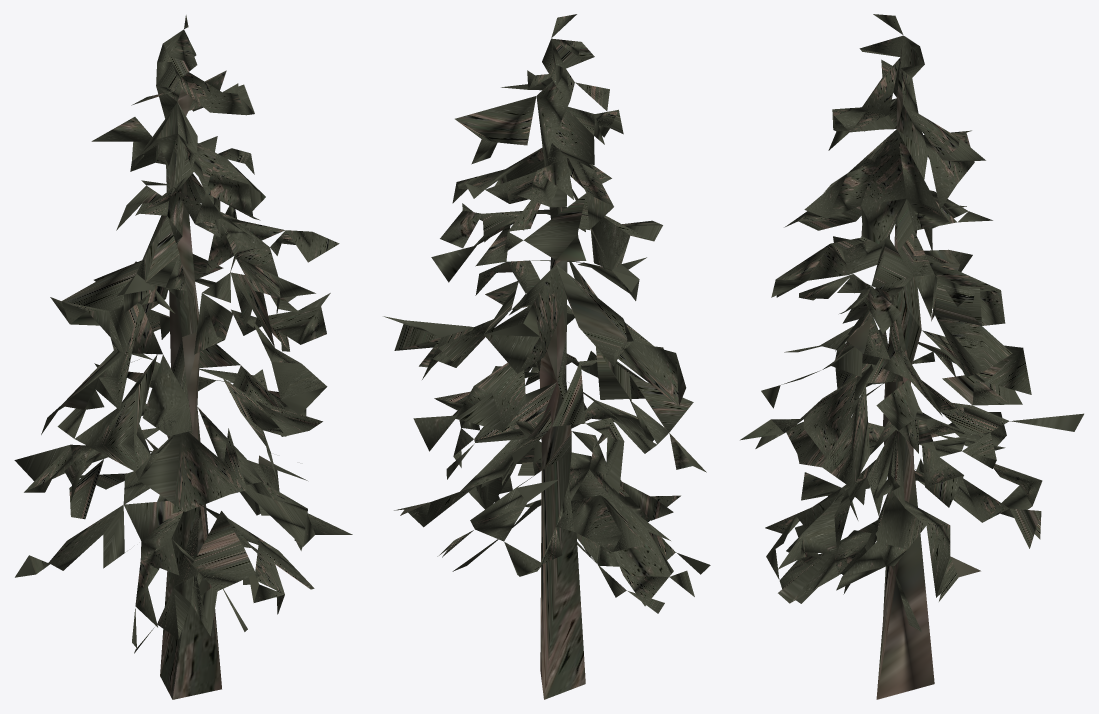
File: Spruce_Pine_Tree_7000.glb
3 renders of one model, left to right at view 1: azimuth 30°, elevation 25°; view 2: azimuth 150°, elevation 25°; view 3: azimuth 270°, elevation 25°, orthographic.
Parts seen in each view (by area): view 1: output_unwrapped; view 2: output_unwrapped; view 3: output_unwrapped.
Part boxes in pixels (<box>): output_unwrapped: <box>14,15,352,699</box>; output_unwrapped: <box>383,14,710,699</box>; output_unwrapped: <box>740,14,1083,699</box>.
Bounding box in the file's own units: 5.31 × 10.81 × 5.03.
Materials: 1 (1 with a texture image).
